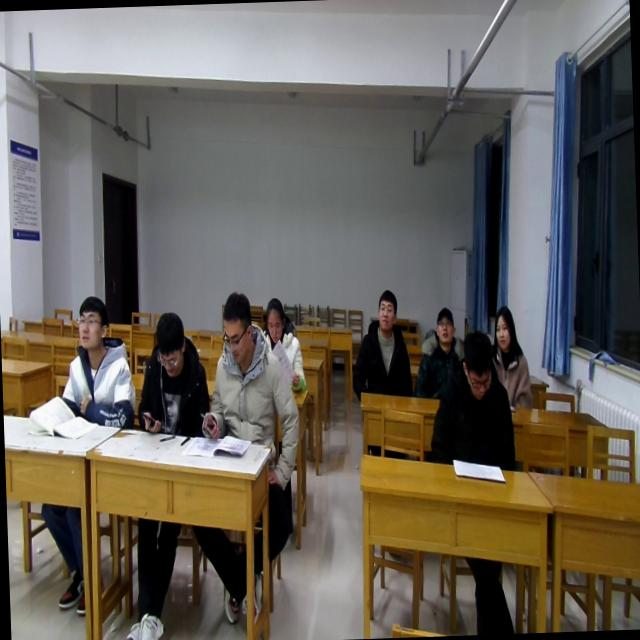down: (218, 287, 259, 366), (147, 306, 187, 381), (458, 324, 496, 402), (261, 290, 288, 346)
lookup: (71, 290, 110, 350), (488, 297, 518, 358), (372, 283, 400, 335), (428, 301, 459, 346)
sit: (195, 290, 301, 444), (424, 328, 518, 474), (58, 293, 136, 434), (133, 312, 210, 440), (348, 287, 414, 398), (412, 305, 470, 399), (488, 304, 535, 411), (262, 297, 308, 398)
